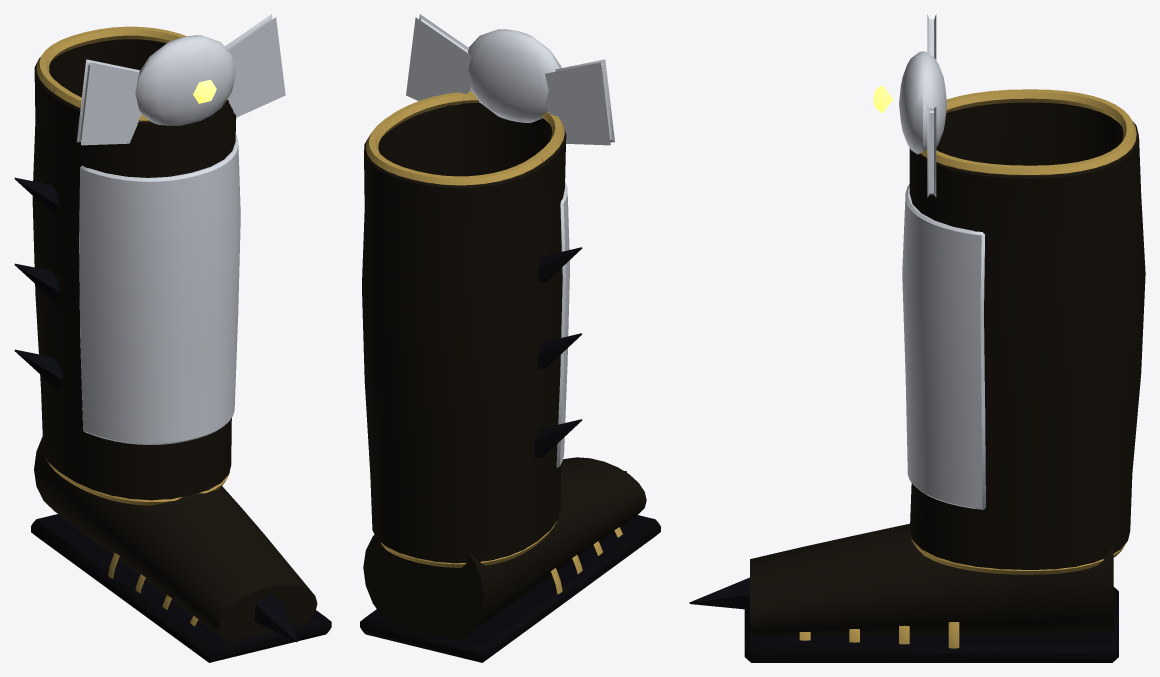
The model's file is esc_null_reaper_boots_R.glb.
The picture shows the model from 3 angles, left to right: view 1: azimuth 30°, elevation 25°; view 2: azimuth 150°, elevation 25°; view 3: azimuth 270°, elevation 25°; orthographic projection. The views are drawn at different scales.
Visible parts, largest first — view 1: esc_null_reaper_boots, AT_foot_R; view 2: esc_null_reaper_boots, AT_foot_R; view 3: esc_null_reaper_boots, AT_foot_R.
Boxes of the visible parts, x1=… form: esc_null_reaper_boots: x1=14, y1=14, x2=285, y2=505; AT_foot_R: x1=31, y1=436, x2=331, y2=662; esc_null_reaper_boots: x1=362, y1=14, x2=614, y2=567; AT_foot_R: x1=360, y1=457, x2=660, y2=662; esc_null_reaper_boots: x1=873, y1=14, x2=1145, y2=574; AT_foot_R: x1=689, y1=523, x2=1118, y2=662.
Bounding box in the file's own units: 0.2427 × 0.5768 × 0.4142.
